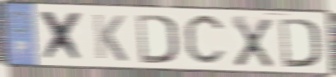C: (182, 11, 228, 69)
D: (278, 16, 323, 69), (135, 12, 180, 65)
K: (91, 12, 129, 64)
X: (38, 9, 87, 64), (230, 14, 274, 70)
